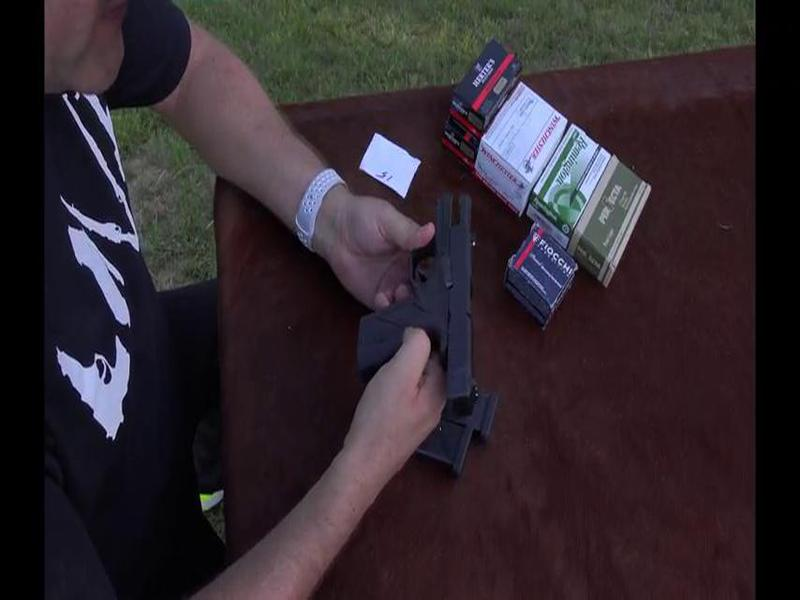Pistola: (353, 180, 491, 422)
